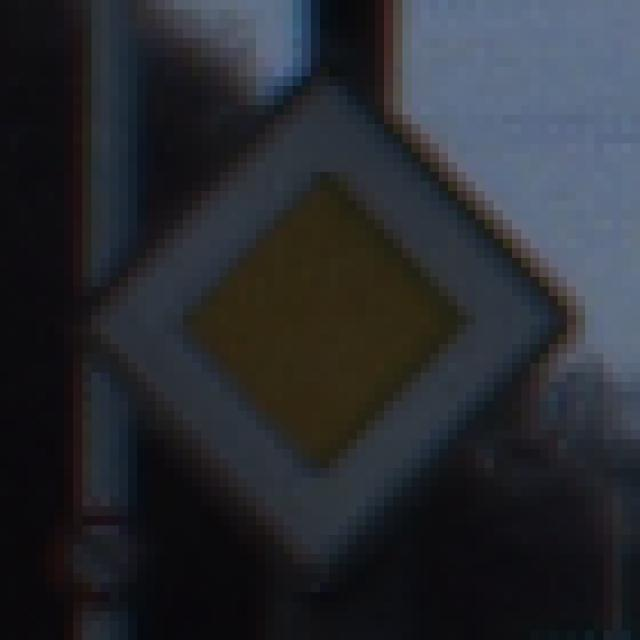Main Road: (65, 58, 586, 584)
